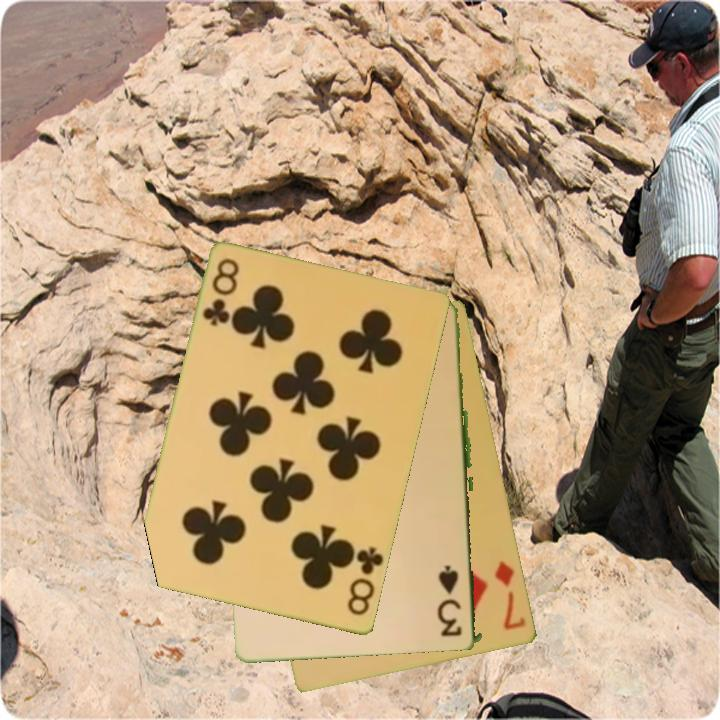3s: (440, 562, 466, 640)
7d: (491, 558, 529, 634)
8c: (199, 255, 243, 330), (344, 544, 386, 619)
